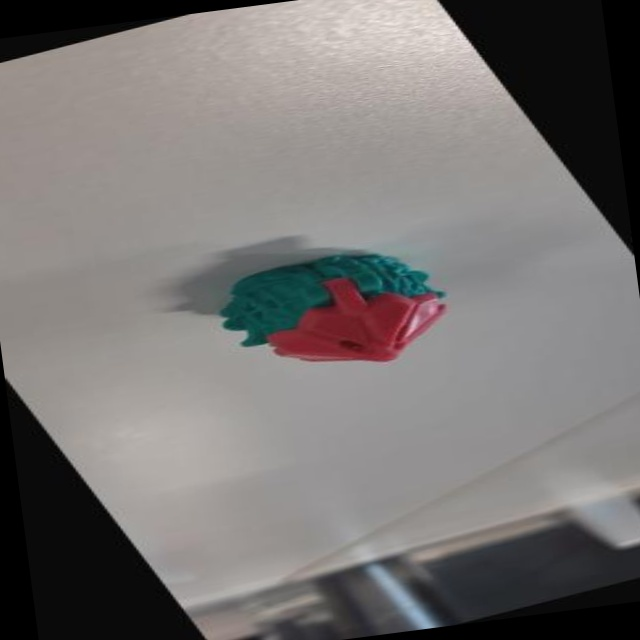House: (175, 223, 495, 409)
